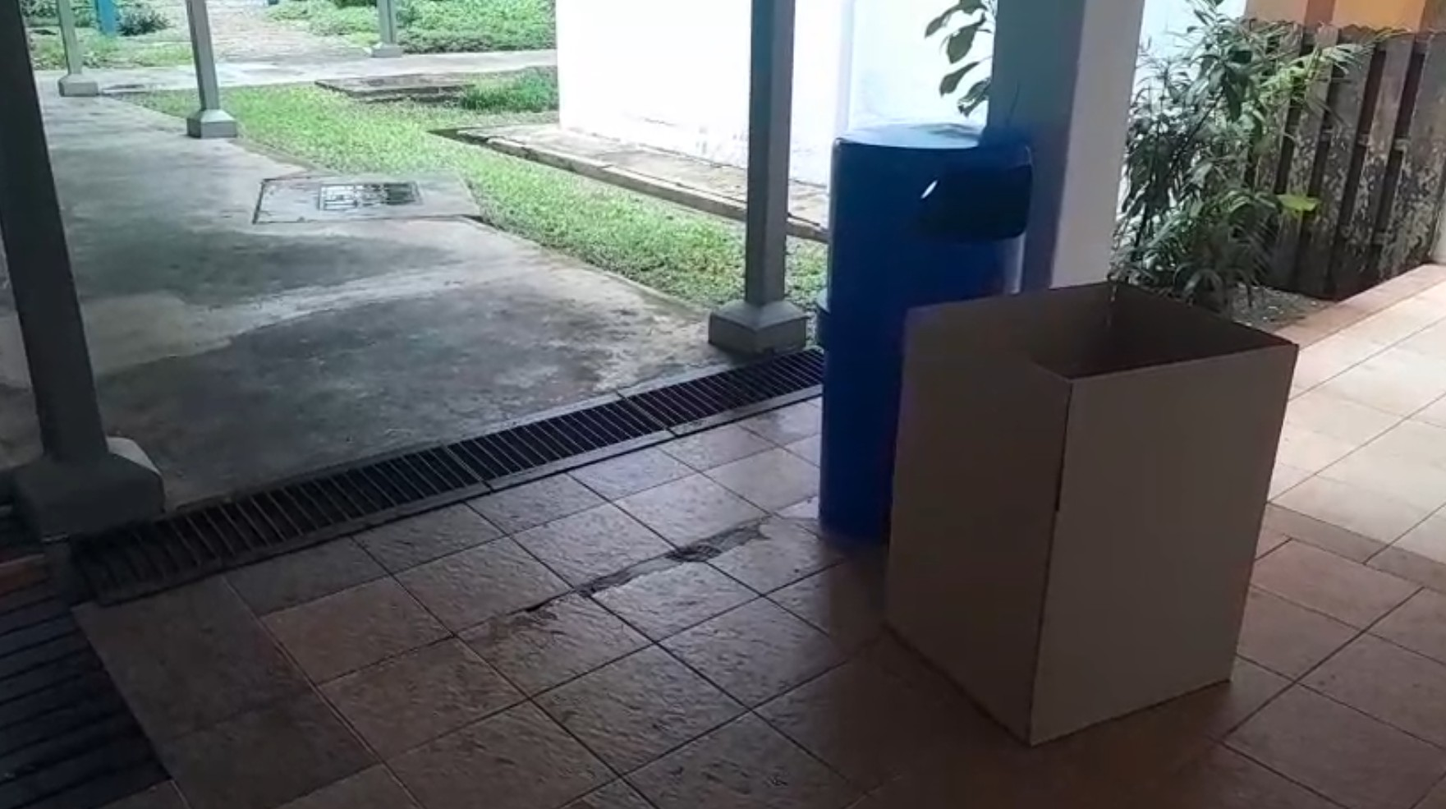bin_empty: (819, 123, 1032, 539)
bulk_waste: (886, 283, 1297, 742)
